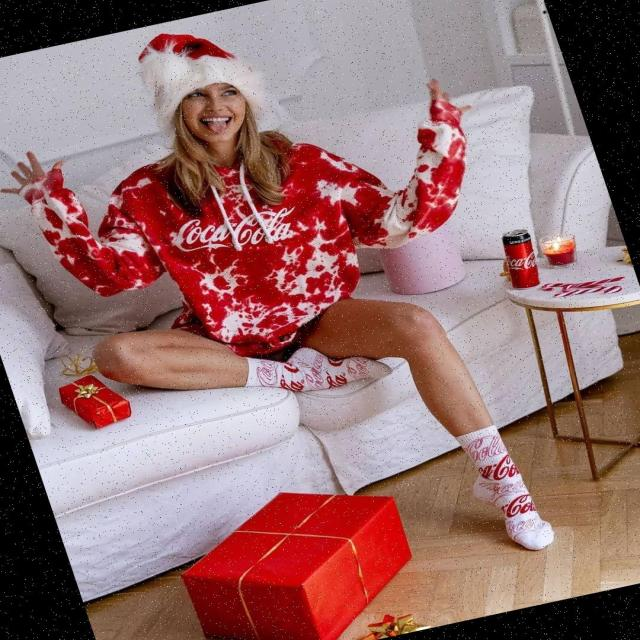coca-cola: (494, 224, 550, 292)
